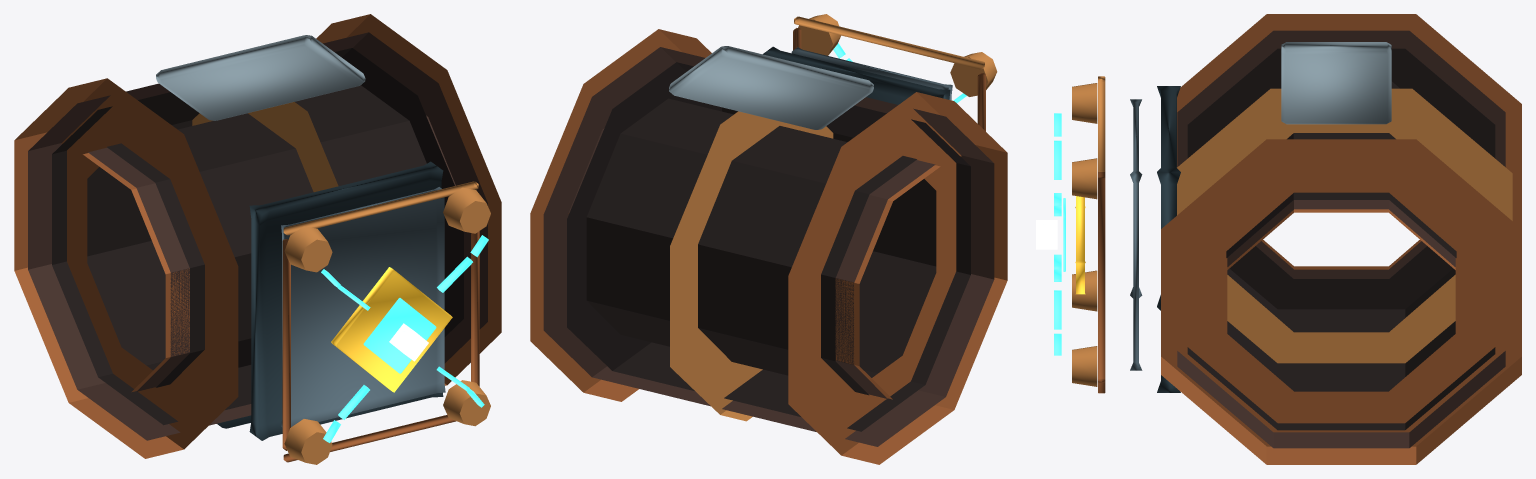
File: Armband_der_unbaendigen_Ahnenkraft.glb
3 renders of one model, left to right at view 1: azimuth 30°, elevation 25°; view 2: azimuth 150°, elevation 25°; view 3: azimuth 270°, elevation 25°, orthographic. The views are drawn at different scales.
Parts seen in each view (by area): view 1: Ahnenarmband_Lederkern, Ahnenarmband_Bronzeband_Links, Ahnenarmband_Lederkante, Ahnenstein_Hauptplatte, Ahnenstein_Schattenplatte, Ahnenstein_Obergrat, Ahnenarmband_Bronzeband_Rechts, Ahnenrune_Goldfassung, Ahnenarmband_Bronzerippe_Mitte, Ahnenrune_Cyan, Bronzerahmen_Links, Bronzerahmen_Oben (+7 smaller); view 2: Ahnenarmband_Lederkern, Ahnenarmband_Bronzeband_Links, Ahnenarmband_Lederkante, Ahnenarmband_Bronzerippe_Mitte, Ahnenstein_Obergrat, Ahnenarmband_Bronzeband_Rechts, Ahnenstein_Schattenplatte, Bronzerahmen_Oben, Bronzeniete_1, Ahnenstein_Hauptplatte, Bronzeniete_2, Bronzerahmen_Links; view 3: Ahnenarmband_Bronzeband_Rechts, Ahnenarmband_Lederkern, Ahnenarmband_Bronzerippe_Mitte, Ahnenarmband_Lederkante, Ahnenstein_Obergrat, Ahnenarmband_Bronzeband_Links, Ahnenstein_Schattenplatte, Ahnenstein_Hauptplatte, Bronzerahmen_Rechts, Bronzeniete_1, Bronzeniete_2, Bronzeniete_4 (+4 smaller).
Boxes of the visible parts, bbox=[...] form: Ahnenarmband_Lederkern: bbox=[52, 48, 463, 425]; Ahnenarmband_Bronzeband_Links: bbox=[14, 78, 238, 458]; Ahnenarmband_Lederkante: bbox=[28, 32, 487, 440]; Ahnenstein_Hauptplatte: bbox=[281, 187, 445, 427]; Ahnenstein_Schattenplatte: bbox=[249, 161, 443, 440]; Ahnenstein_Obergrat: bbox=[156, 35, 365, 120]; Ahnenarmband_Bronzeband_Rechts: bbox=[316, 14, 501, 385]; Ahnenrune_Goldfassung: bbox=[331, 267, 452, 392]; Ahnenarmband_Bronzerippe_Mitte: bbox=[192, 102, 338, 192]; Ahnenrune_Cyan: bbox=[363, 298, 436, 373]; Bronzerahmen_Links: bbox=[282, 239, 290, 450]; Bronzerahmen_Oben: bbox=[283, 181, 478, 235]; Ahnenarmband_Lederkern: bbox=[567, 62, 970, 431]; Ahnenarmband_Bronzeband_Links: bbox=[788, 92, 1007, 464]; Ahnenarmband_Lederkante: bbox=[543, 47, 994, 446]; Ahnenarmband_Bronzerippe_Mitte: bbox=[670, 111, 833, 421]; Ahnenstein_Obergrat: bbox=[669, 46, 873, 129]; Ahnenarmband_Bronzeband_Rechts: bbox=[530, 29, 711, 401]; Ahnenstein_Schattenplatte: bbox=[763, 46, 950, 104]; Bronzerahmen_Oben: bbox=[794, 16, 984, 69]; Bronzeniete_1: bbox=[950, 52, 997, 96]; Ahnenstein_Hauptplatte: bbox=[791, 47, 952, 100]; Bronzeniete_2: bbox=[798, 14, 840, 55]; Bronzerahmen_Links: bbox=[977, 73, 985, 131]; Ahnenarmband_Bronzeband_Rechts: bbox=[1161, 139, 1521, 464]; Ahnenarmband_Lederkern: bbox=[1187, 48, 1495, 430]; Ahnenarmband_Bronzerippe_Mitte: bbox=[1177, 88, 1512, 363]; Ahnenarmband_Lederkante: bbox=[1177, 30, 1505, 448]; Ahnenstein_Obergrat: bbox=[1281, 42, 1391, 124]; Ahnenarmband_Bronzeband_Links: bbox=[1177, 14, 1521, 269]; Ahnenstein_Schattenplatte: bbox=[1157, 86, 1180, 392]; Ahnenstein_Hauptplatte: bbox=[1130, 99, 1142, 370]; Bronzerahmen_Rechts: bbox=[1098, 177, 1105, 382]; Bronzeniete_1: bbox=[1072, 83, 1097, 123]; Bronzeniete_2: bbox=[1072, 158, 1097, 199]; Bronzeniete_4: bbox=[1072, 346, 1097, 386].
Bounding box in the file's own units: 0.404 × 0.414 × 0.5772.
